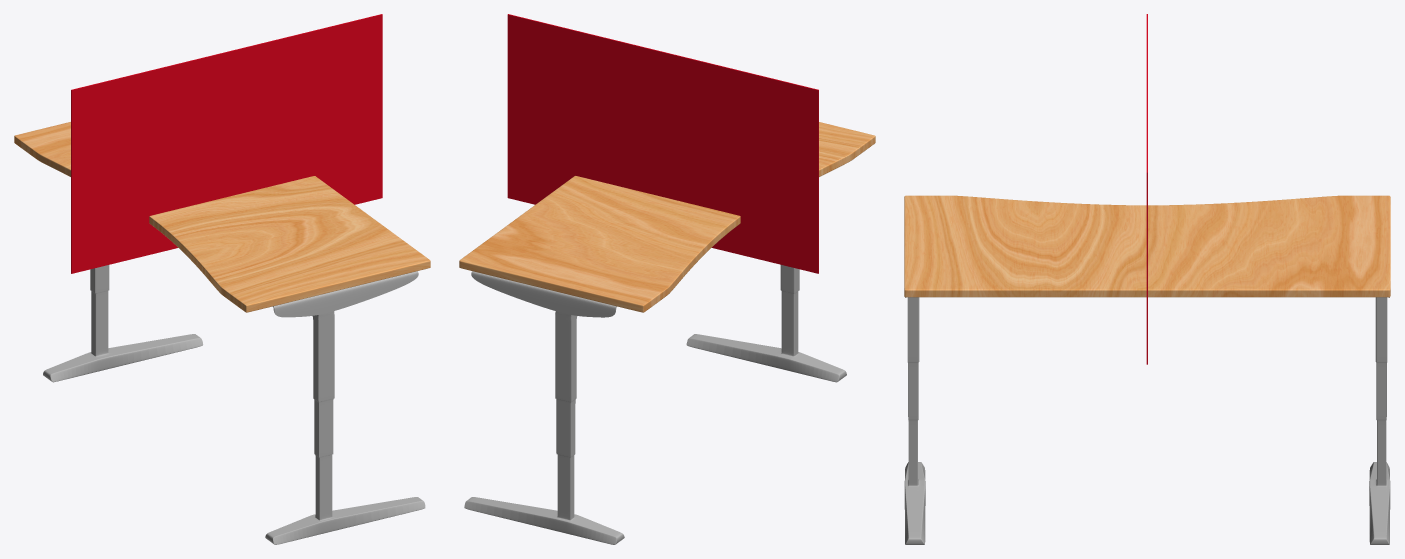
File: standing_desk_1_reference_plane.glb
3 views of the same model, side by side, from view 1: azimuth 30°, elevation 25°; view 2: azimuth 150°, elevation 25°; view 3: azimuth 270°, elevation 25° (orthographic). The views are drawn at different scales.
Visible parts, largest first — view 1: Cube.002, Cube.001, Cube, Plane; view 2: Cube.002, Cube.001, Cube, Plane; view 3: Cube.001, Cube, Cube.002.
Part boxes in pixels (box(x1,y1,x2,y2)): Cube.002: box(71, 14, 382, 273); Cube.001: box(14, 122, 430, 312); Cube: box(43, 265, 425, 544); Plane: box(273, 271, 418, 317); Cube.002: box(507, 14, 818, 273); Cube.001: box(459, 122, 875, 312); Cube: box(464, 265, 846, 544); Plane: box(471, 271, 616, 317); Cube.001: box(904, 195, 1390, 297); Cube: box(904, 297, 1390, 544); Cube.002: box(1146, 14, 1147, 364).
Size of the model in its own units: 39.89 by 48.05 by 51.68.
Materials: 4 (1 with a texture image).
